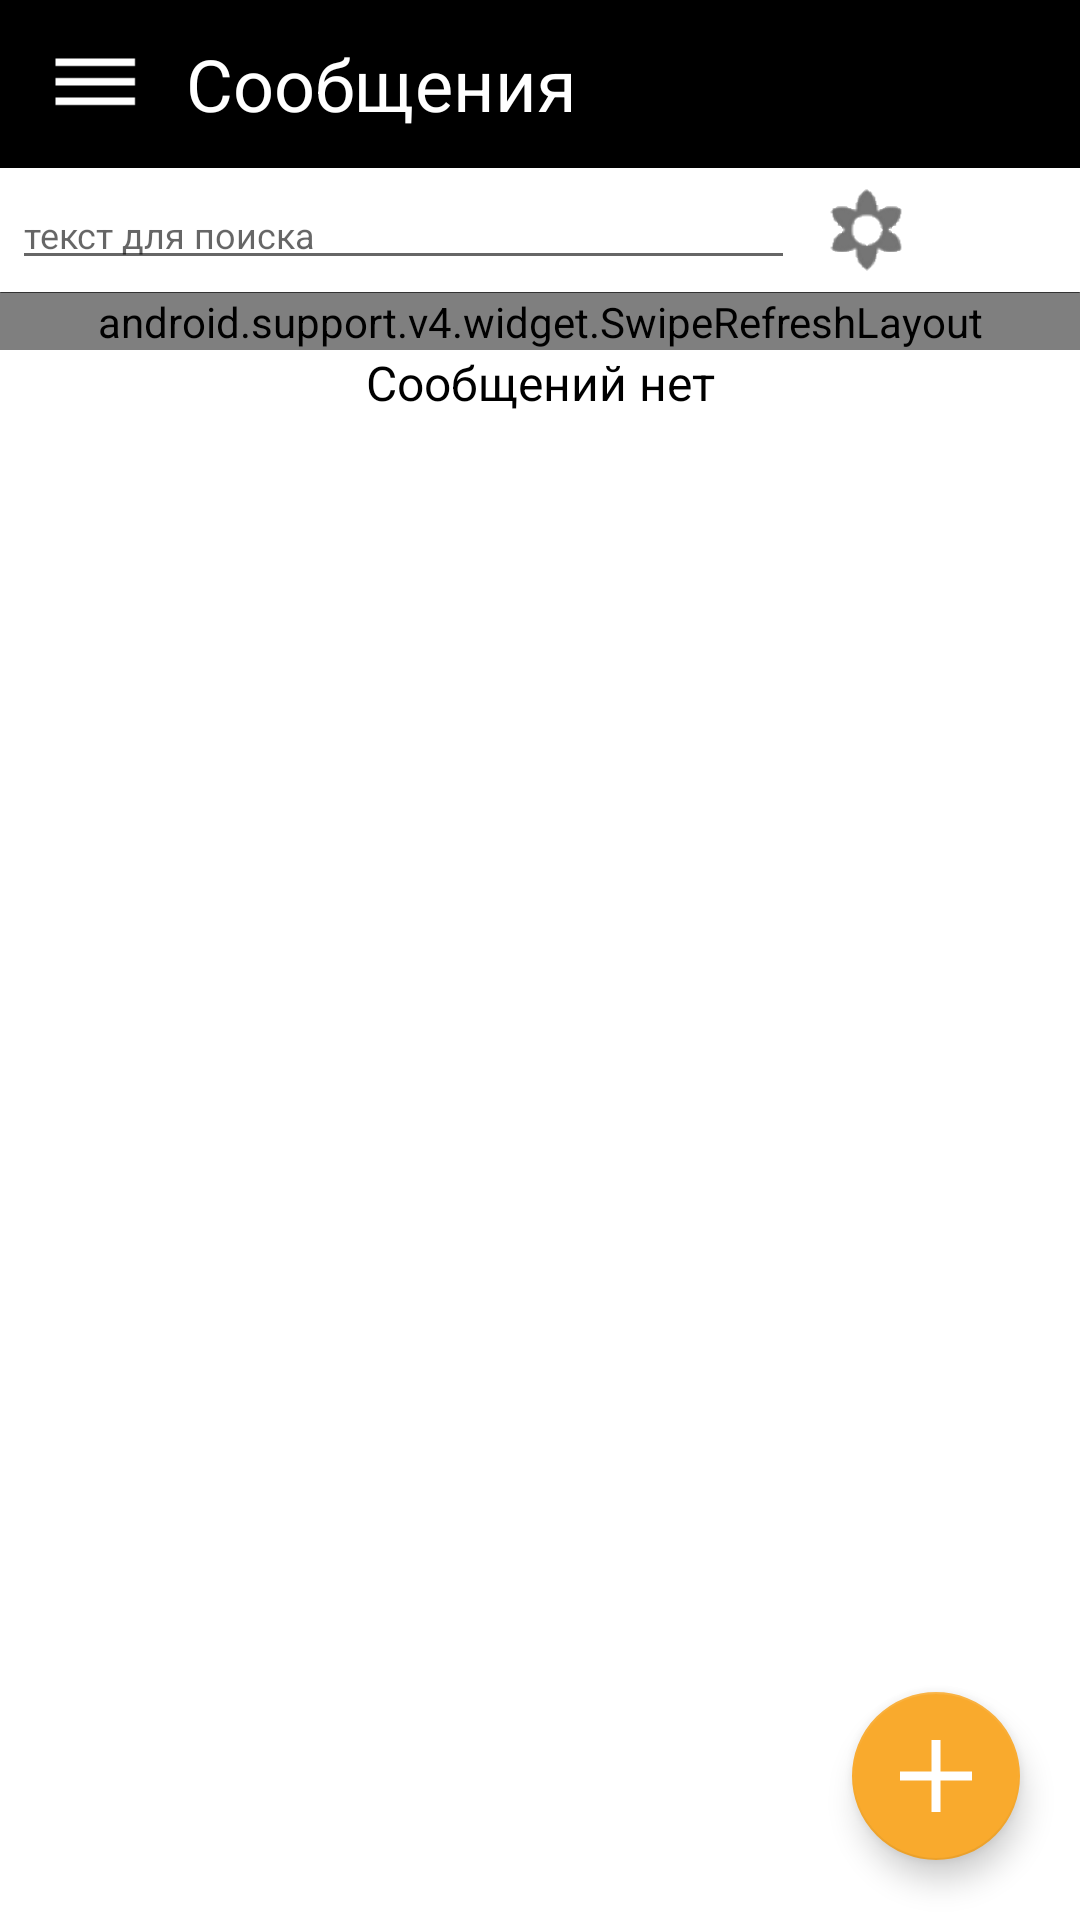

Locate icon controls on the screen. Image size 1080*1920, boxes as Rect(x1, y1, x2, y2).
fab add: Rect(852, 1692, 1020, 1860)
mainmenu: Rect(55, 58, 136, 106)
